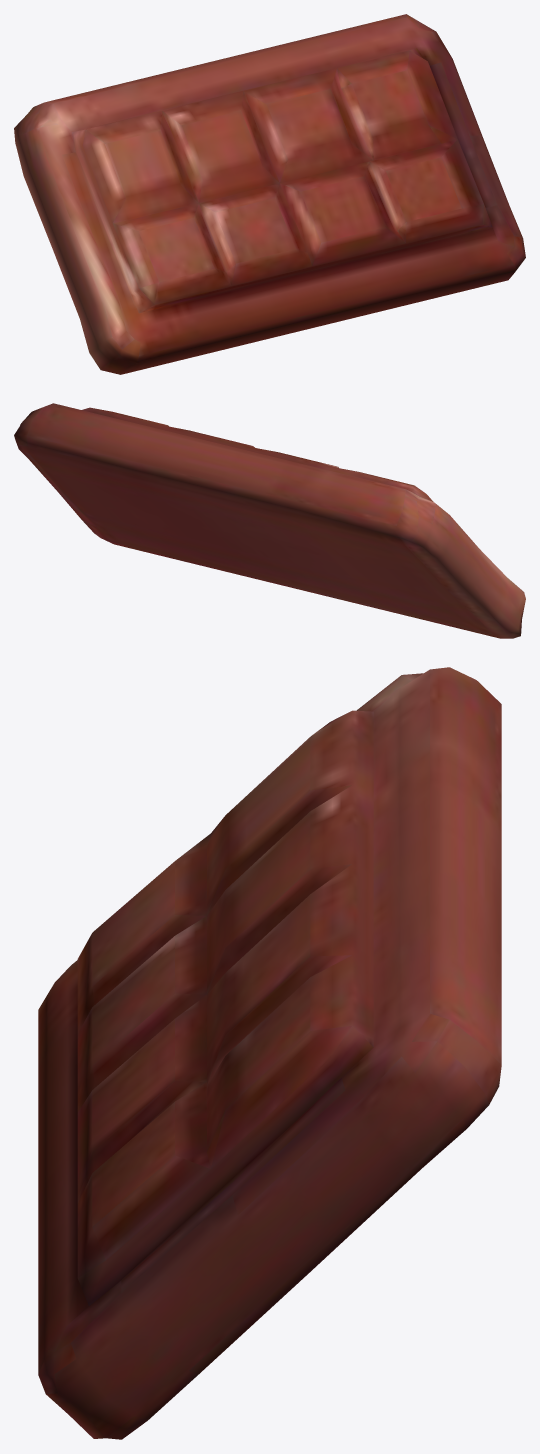
The model's file is chocolate.glb.
The picture shows the model from 3 angles, top to bottom: view 1: azimuth 30°, elevation 25°; view 2: azimuth 150°, elevation 25°; view 3: azimuth 270°, elevation 25°; orthographic projection. The views are drawn at different scales.
Visible parts, largest first — view 1: Chocolate; view 2: Chocolate; view 3: Chocolate.
Boxes of the visible parts, box(x1,y1,x2,y2) form: Chocolate: box(14, 14, 525, 374); Chocolate: box(14, 403, 525, 638); Chocolate: box(38, 667, 501, 1439).
Size of the model in its own units: 1.73 by 0.7956 by 0.8174.
Materials: 1 (1 with a texture image).
